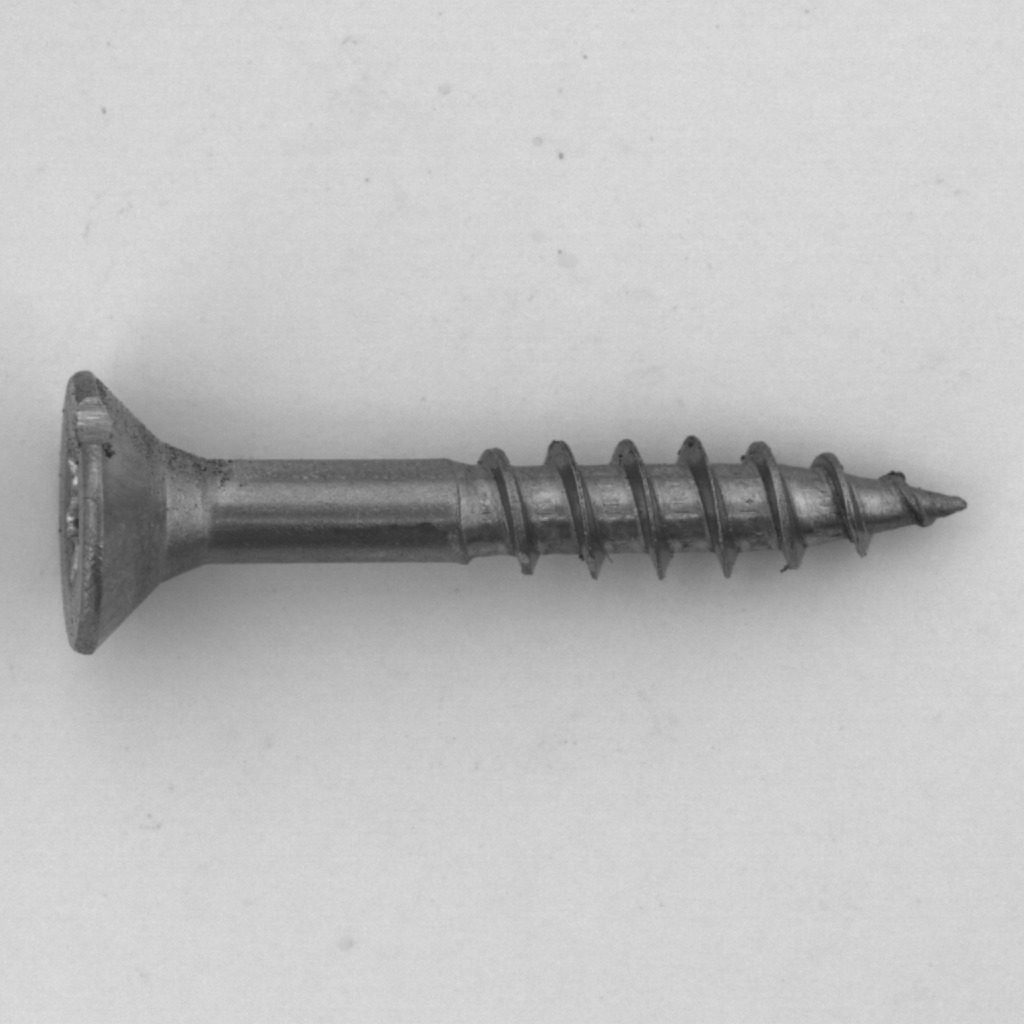manipulated_front: (179, 62, 368, 217)
